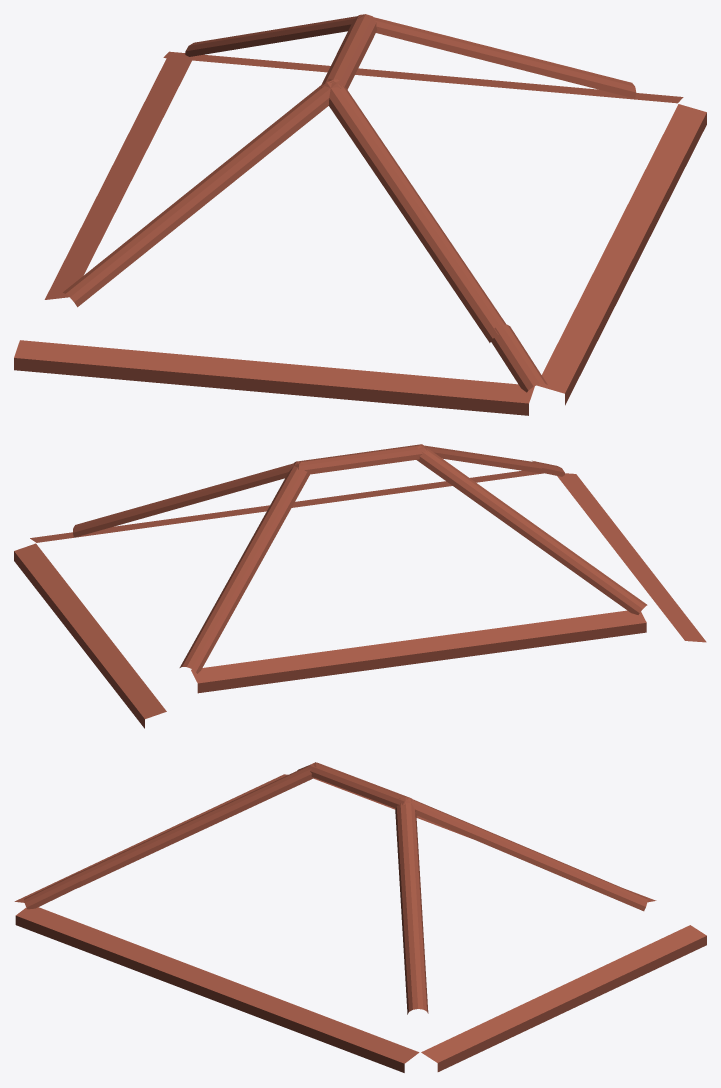
3 views of the same model, one above another, from view 1: azimuth 30°, elevation 25°; view 2: azimuth 150°, elevation 25°; view 3: azimuth 270°, elevation 25° (orthographic). The views are drawn at different scales.
Visible parts, largest first — view 1: detail; view 2: detail; view 3: detail.
Boxes of the visible parts, x1=… form: detail: x1=14, y1=14, x2=706, y2=415; detail: x1=14, y1=444, x2=706, y2=728; detail: x1=14, y1=762, x2=706, y2=1072.
Bounding box in the file's own units: 9.82 × 2.46 × 9.93.
